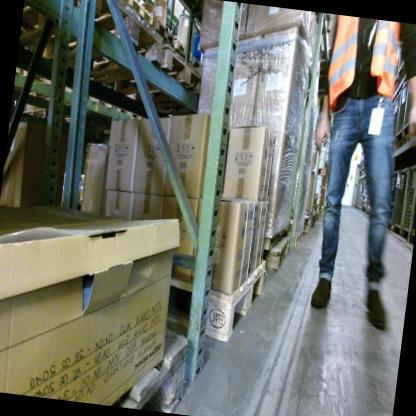pallet: (16, 0, 171, 99), (71, 25, 213, 121), (148, 244, 268, 352), (100, 325, 195, 412), (17, 94, 111, 146), (255, 229, 294, 280), (308, 41, 337, 89), (251, 218, 290, 253), (149, 13, 180, 45), (120, 0, 157, 26), (169, 31, 194, 63), (285, 214, 314, 238), (281, 228, 304, 258), (186, 47, 206, 72), (312, 14, 338, 33), (401, 128, 415, 149), (394, 69, 404, 94), (392, 135, 405, 154), (314, 165, 326, 179), (356, 204, 365, 212)
stillage: (392, 160, 412, 236), (400, 159, 416, 242), (383, 164, 401, 227), (402, 57, 416, 136), (395, 77, 410, 142), (407, 173, 416, 245), (397, 31, 409, 78), (390, 89, 400, 136)
